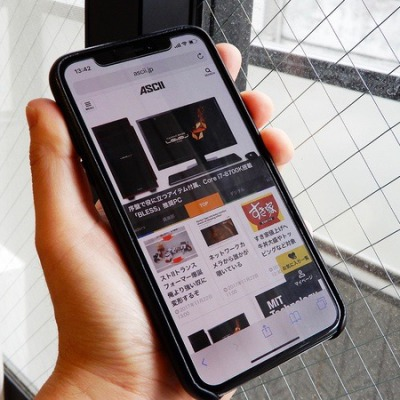iphone: (48, 23, 348, 400)
